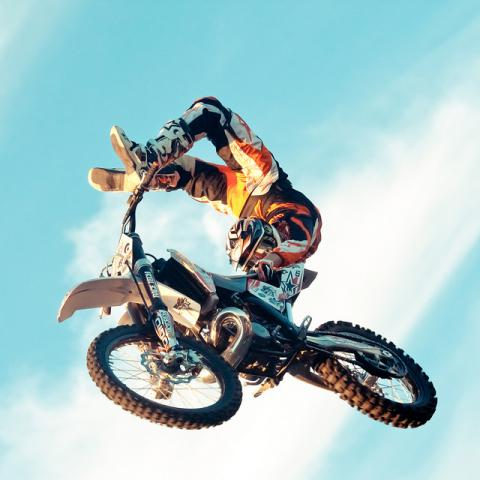motorcycle: (57, 161, 437, 431)
